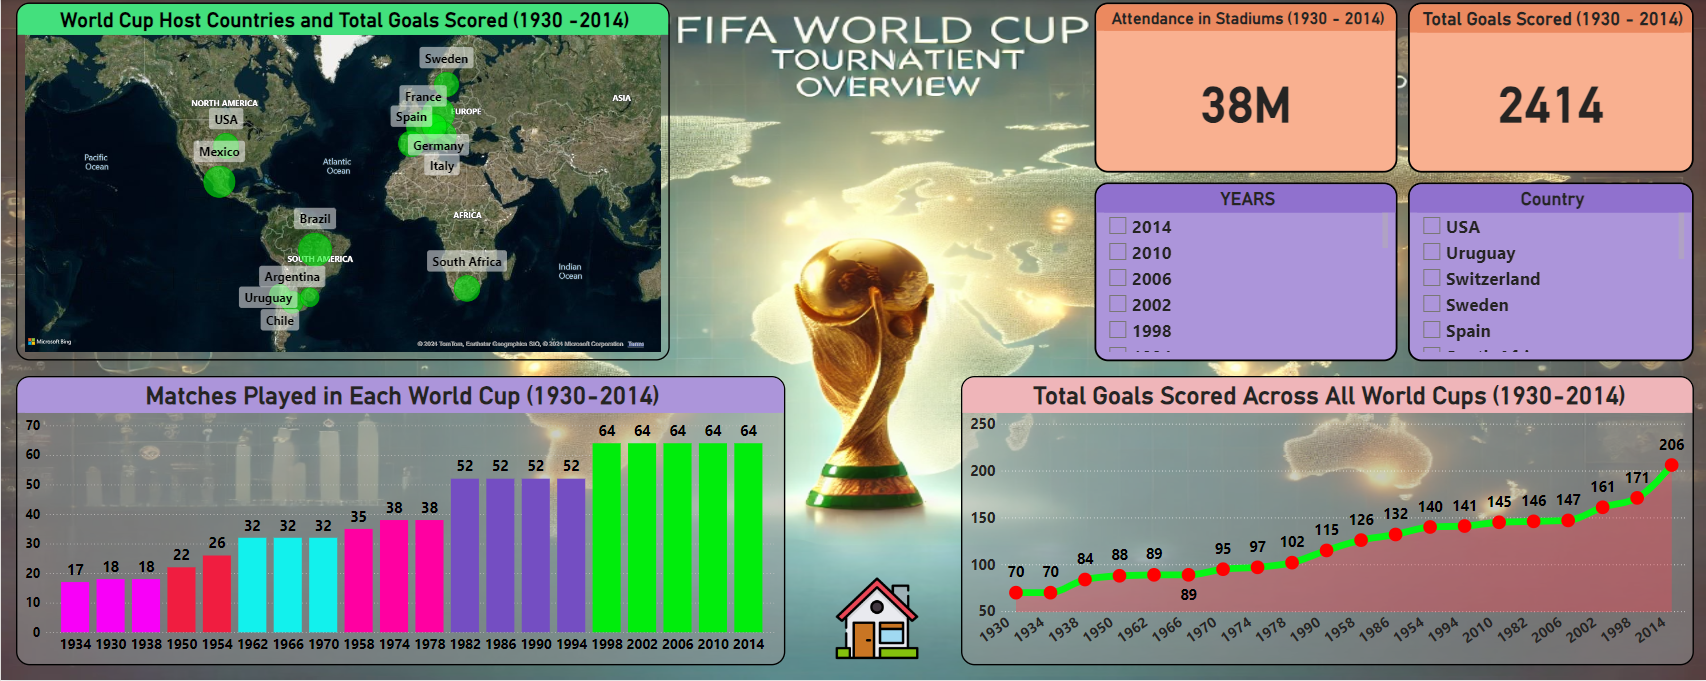

The page's visual inventory and layout, read from the dashboard file:
{"tool":"powerbi","page":{"name":"Tournement Overview","canvas":[2500,1000],"ordinal":1},"visuals":[{"type":"lineChart","title":"Total Goals Scored Across All World Cups (1930-2014)","fields":{"Y":["WorldCupMatches.Total Goals Scored"],"Category":["WorldCups.Year"]},"box":[1407.2,554.8,1074.3,423.7],"z":0},{"type":"map","title":"World Cup Host Countries and Total Goals Scored (1930 -2014)","fields":{"Category":["WorldCups.Country"],"Size":["Sum(WorldCups.GoalsScored)"]},"box":[22.7,7.6,958.3,524.5],"z":1000},{"type":"clusteredColumnChart","title":"Matches Played in Each World Cup (1930-2014)","fields":{"Category":["WorldCups.Year"],"Y":["Sum(WorldCups.MatchesPlayed)"]},"box":[22,553.9,1127.6,424.2],"z":2000},{"type":"card","title":"Attendance in Stadiums (1930 - 2014)","fields":{"Values":["Sum(WorldCupMatches.Attendance)"]},"box":[1601.4,7.6,443.8,249.7],"z":3000},{"type":"card","title":"Total Goals Scored (1930 - 2014)","fields":{"Values":["WorldCupMatches.Total Goals Scored"]},"box":[2062.9,7.6,418.6,249.7],"z":4000},{"type":"slicer","title":"YEARS","fields":{"Values":["WorldCups.Year"]},"box":[1601.4,269.8,443.8,262.3],"z":5000},{"type":"slicer","title":"Country","fields":{"Values":["WorldCups.Country"]},"box":[2062.9,269.8,418.6,262.3],"z":6000},{"type":"image","box":[1217.8,839.7,131.9,138.5],"z":6001}]}

Visuals, with their boxes in screenshot pixels (x1, y1, x2, y2), scaled from the page's 2500x1000 canvas onto the 1706x681 screenshot:
"Total Goals Scored Across All World Cups (1930-2014)" lineChart: [960,378,1693,666]
"World Cup Host Countries and Total Goals Scored (1930 -2014)" map: [15,5,669,362]
"Matches Played in Each World Cup (1930-2014)" clusteredColumnChart: [15,377,784,666]
"Attendance in Stadiums (1930 - 2014)" card: [1093,5,1396,175]
"Total Goals Scored (1930 - 2014)" card: [1408,5,1693,175]
"YEARS" slicer: [1093,184,1396,362]
"Country" slicer: [1408,184,1693,362]
image: [831,572,921,666]
